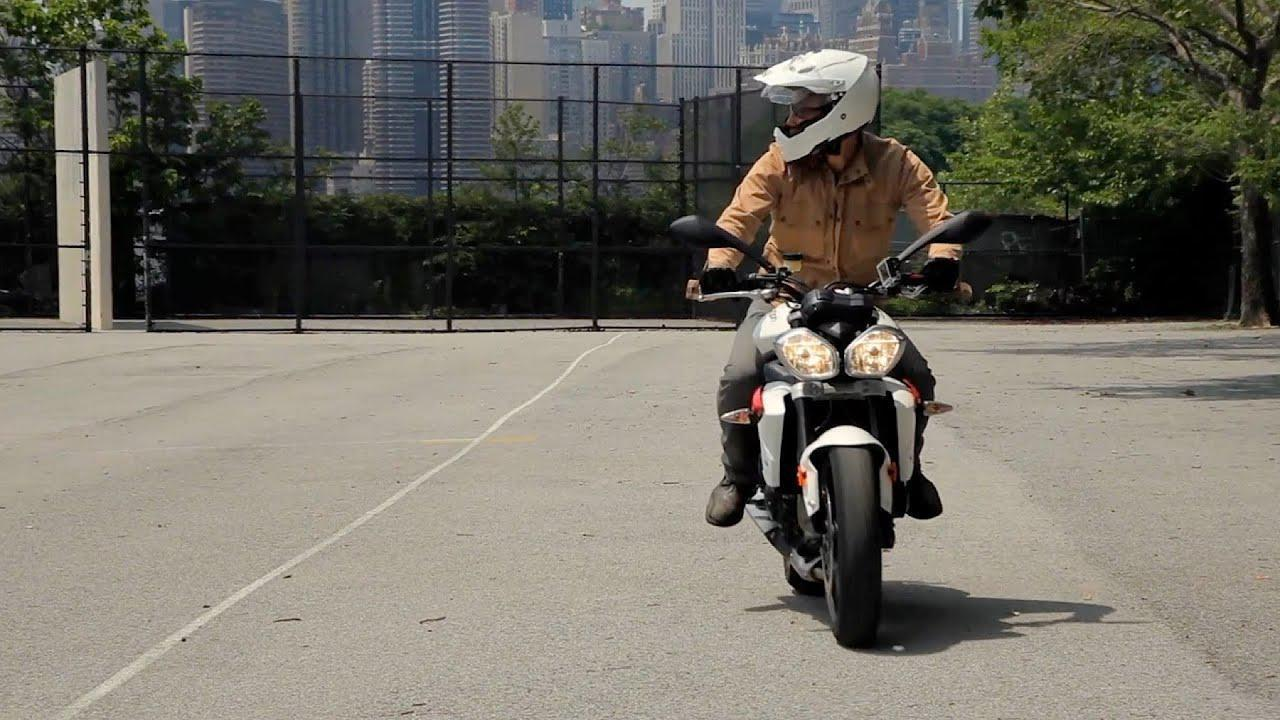motorcycle: (644, 185, 1037, 673)
